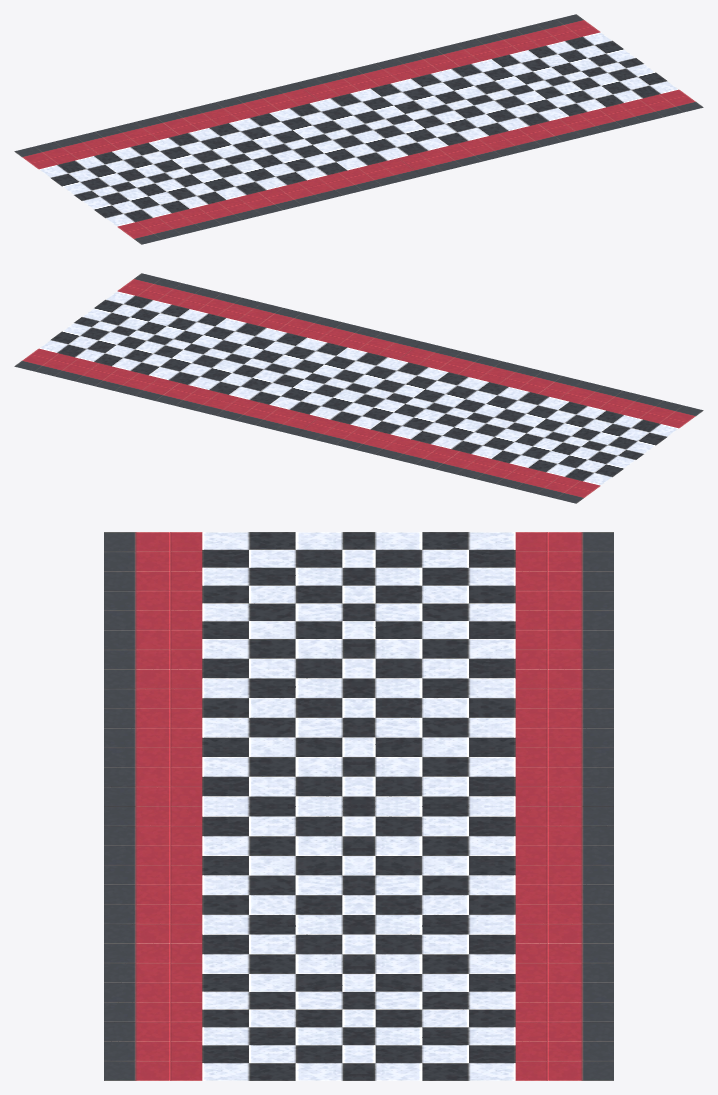
The model's file is obj_floor.gltf.
3 renders of one model, top to bottom at view 1: azimuth 30°, elevation 25°; view 2: azimuth 150°, elevation 25°; view 3: azimuth 270°, elevation 25°, orthographic. The views are drawn at different scales.
Visible parts, largest first — view 1: obj_floor; view 2: obj_floor; view 3: obj_floor.
Part boxes in pixels (bbox=[...]): obj_floor: bbox=[14, 14, 703, 244]; obj_floor: bbox=[14, 273, 703, 503]; obj_floor: bbox=[104, 532, 613, 1080].
Size of what is drawn, in the model's own units: 15.76 by 7.64e-07 by 6.19.
Materials: 1 (1 with a texture image).
